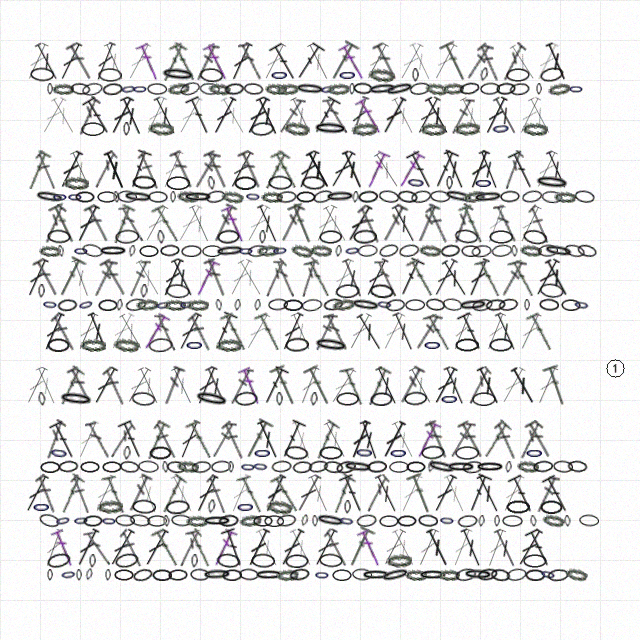chain: (193, 389, 230, 409), (313, 336, 349, 354), (58, 390, 94, 408), (160, 66, 196, 83), (534, 174, 570, 191), (384, 80, 415, 98), (426, 458, 457, 476), (380, 566, 411, 584), (443, 188, 474, 205), (315, 512, 346, 529), (313, 121, 348, 136), (34, 189, 65, 205), (543, 243, 574, 259), (350, 297, 381, 313), (539, 65, 565, 84), (46, 551, 72, 570), (114, 551, 140, 570), (522, 228, 548, 246), (283, 120, 310, 137), (367, 82, 398, 96), (368, 67, 395, 83), (351, 121, 378, 137), (113, 337, 140, 353), (266, 499, 293, 515), (454, 228, 479, 245), (539, 282, 564, 299), (216, 552, 241, 569), (295, 82, 325, 96), (123, 190, 153, 204), (473, 190, 503, 204), (215, 244, 245, 258), (458, 298, 488, 312), (343, 460, 373, 474), (462, 188, 486, 205), (199, 67, 224, 83), (250, 121, 275, 137), (301, 175, 326, 191), (165, 283, 190, 299), (335, 283, 360, 299), (369, 283, 394, 299), (148, 337, 173, 353), (131, 391, 156, 407), (284, 445, 309, 461), (165, 499, 190, 515), (81, 242, 104, 259), (38, 512, 61, 529), (148, 121, 174, 136), (454, 121, 480, 136), (325, 190, 355, 203), (97, 499, 123, 514), (386, 553, 412, 568), (202, 568, 232, 581), (463, 568, 493, 581), (547, 81, 571, 97), (290, 243, 314, 259), (179, 80, 201, 97), (312, 188, 334, 205), (378, 242, 400, 259), (81, 81, 104, 97), (563, 243, 586, 259), (471, 297, 494, 313), (420, 122, 446, 136), (522, 122, 548, 136), (63, 176, 89, 190), (80, 338, 106, 352), (216, 338, 242, 352), (30, 67, 54, 82), (132, 175, 156, 190), (268, 175, 292, 190), (183, 191, 213, 203), (47, 229, 71, 244), (115, 229, 139, 244), (353, 229, 377, 244), (98, 245, 128, 257), (285, 337, 309, 352), (234, 391, 258, 406), (421, 445, 445, 460), (446, 461, 476, 473), (475, 461, 505, 473), (132, 499, 156, 514), (202, 515, 232, 527), (251, 553, 275, 568), (319, 553, 343, 568), (254, 569, 284, 581), (361, 569, 391, 581), (418, 569, 448, 581), (576, 243, 598, 259), (335, 459, 357, 475), (132, 567, 154, 583), (167, 81, 190, 96), (217, 229, 240, 244), (332, 297, 355, 312), (404, 391, 427, 406), (239, 513, 262, 528), (542, 513, 565, 528), (565, 567, 588, 582), (98, 68, 122, 82), (506, 68, 530, 82), (81, 122, 105, 136), (166, 176, 190, 190), (489, 230, 513, 244), (455, 338, 479, 352), (489, 338, 513, 352), (472, 392, 496, 406), (319, 446, 343, 460), (455, 446, 479, 460), (506, 500, 530, 514), (285, 554, 309, 568), (523, 554, 547, 568), (409, 81, 431, 96), (378, 189, 400, 204), (410, 189, 432, 204), (521, 189, 543, 204), (398, 243, 420, 258), (491, 243, 513, 258), (125, 297, 147, 312), (129, 513, 151, 528), (455, 567, 477, 582), (208, 82, 231, 96), (276, 82, 299, 96), (327, 82, 350, 96), (425, 82, 448, 96), (234, 176, 257, 190), (221, 190, 244, 204), (319, 230, 342, 244), (47, 338, 70, 352), (336, 392, 359, 406), (370, 392, 393, 406), (149, 446, 172, 460), (540, 500, 563, 514), (276, 568, 299, 582), (49, 445, 69, 461), (459, 81, 480, 96), (205, 189, 226, 204), (397, 189, 418, 204), (574, 189, 595, 204), (440, 243, 461, 258), (323, 297, 344, 312), (425, 297, 446, 312), (442, 297, 463, 312), (498, 297, 519, 312), (308, 459, 329, 474), (276, 513, 297, 528), (356, 513, 377, 528), (289, 567, 310, 582), (477, 567, 498, 582), (506, 567, 527, 582), (541, 190, 563, 204), (301, 298, 323, 312), (462, 460, 484, 474), (547, 568, 569, 582), (491, 121, 511, 136), (406, 175, 426, 190), (70, 82, 91, 96), (102, 82, 123, 96), (199, 82, 220, 96), (224, 82, 245, 96), (243, 82, 264, 96), (509, 82, 530, 96), (276, 190, 297, 204), (247, 244, 268, 258), (471, 244, 492, 258), (57, 298, 78, 312), (385, 298, 406, 312), (485, 298, 506, 312), (119, 460, 140, 474), (166, 460, 187, 474), (191, 460, 212, 474), (292, 460, 313, 474), (323, 460, 344, 474), (457, 514, 478, 528), (490, 568, 511, 582), (442, 82, 464, 95), (177, 190, 199, 203), (257, 244, 279, 257), (310, 244, 332, 257), (419, 244, 441, 257), (520, 244, 542, 257), (136, 298, 158, 311), (177, 460, 199, 473), (517, 460, 539, 473), (355, 445, 374, 460), (357, 244, 378, 257), (58, 460, 79, 473), (138, 460, 159, 473), (271, 460, 292, 473), (567, 460, 588, 473), (171, 514, 192, 527), (218, 514, 239, 527), (77, 297, 95, 312), (54, 513, 72, 528), (539, 567, 557, 582), (270, 68, 289, 82), (338, 68, 357, 82), (474, 176, 493, 190), (185, 338, 204, 352), (423, 338, 442, 352), (440, 392, 459, 406), (253, 446, 272, 460), (389, 446, 408, 460), (525, 446, 544, 460), (32, 500, 51, 514), (236, 500, 255, 514), (52, 83, 74, 95), (265, 83, 287, 95), (261, 191, 283, 203), (554, 191, 576, 203), (39, 245, 61, 257), (164, 299, 186, 311), (187, 299, 209, 311), (186, 515, 208, 527), (405, 569, 427, 581), (438, 569, 460, 581), (353, 82, 373, 95), (480, 82, 500, 95), (496, 82, 516, 95), (117, 190, 137, 203), (358, 190, 378, 203), (430, 190, 450, 203), (500, 190, 520, 203), (160, 244, 180, 257), (538, 244, 558, 257), (268, 298, 288, 311), (539, 298, 559, 311), (211, 460, 231, 473), (367, 460, 387, 473), (533, 460, 553, 473), (553, 460, 573, 473), (115, 514, 135, 527), (418, 514, 438, 527), (579, 514, 599, 527), (190, 568, 210, 581), (239, 568, 259, 581), (352, 568, 372, 581), (319, 82, 337, 96), (181, 245, 202, 257), (202, 245, 223, 257), (502, 515, 523, 527), (147, 83, 167, 95), (75, 191, 95, 203), (97, 191, 117, 203), (148, 191, 168, 203), (296, 191, 316, 203), (139, 245, 159, 257), (461, 245, 481, 257), (98, 299, 118, 311), (283, 299, 303, 311), (405, 299, 425, 311), (561, 299, 581, 311), (40, 461, 60, 473), (80, 461, 100, 473), (102, 461, 122, 473), (389, 461, 409, 473), (406, 461, 426, 473), (83, 515, 103, 527), (147, 515, 167, 527), (253, 515, 273, 527), (264, 515, 284, 527), (379, 515, 399, 527), (397, 515, 417, 527), (114, 569, 134, 581), (152, 569, 172, 581), (168, 569, 188, 581), (222, 569, 242, 581), (332, 569, 352, 581), (525, 569, 545, 581), (120, 82, 137, 96), (155, 298, 172, 312), (573, 298, 590, 312), (338, 514, 355, 528), (344, 244, 361, 257), (376, 298, 393, 311), (252, 460, 269, 473), (60, 568, 77, 581), (245, 190, 261, 203), (272, 244, 288, 257), (42, 298, 58, 311), (179, 298, 195, 311), (73, 514, 89, 527), (439, 514, 455, 527), (132, 83, 148, 95), (568, 83, 584, 95), (52, 191, 68, 203), (67, 191, 83, 203), (73, 245, 89, 257), (238, 245, 254, 257), (240, 461, 256, 473), (101, 515, 117, 527), (314, 569, 330, 581), (479, 67, 489, 82), (207, 499, 216, 514), (207, 176, 216, 190), (300, 514, 309, 527), (157, 230, 165, 244), (140, 284, 148, 298), (38, 392, 46, 406), (310, 392, 318, 406), (123, 446, 131, 460), (427, 460, 435, 473), (85, 568, 93, 581), (412, 68, 419, 82), (123, 122, 130, 136), (446, 176, 453, 190), (259, 230, 266, 244), (38, 284, 45, 298), (276, 392, 283, 406), (344, 500, 351, 514), (89, 554, 96, 568), (191, 554, 198, 568), (57, 245, 65, 257), (128, 245, 136, 257), (215, 299, 223, 311), (113, 191, 120, 203), (352, 191, 359, 203), (335, 245, 342, 257), (511, 245, 518, 257), (116, 299, 123, 311), (234, 299, 241, 311), (254, 299, 261, 311), (162, 461, 169, 473), (505, 461, 512, 473), (163, 515, 170, 527), (478, 515, 485, 527), (530, 515, 537, 527), (564, 515, 571, 527), (47, 83, 53, 95), (349, 83, 355, 95), (536, 83, 542, 95), (170, 191, 176, 203), (524, 299, 530, 311), (228, 461, 234, 473), (312, 515, 318, 527), (494, 515, 500, 527), (47, 569, 53, 581), (76, 569, 82, 581), (105, 569, 111, 581)
double: (326, 40, 360, 83), (292, 41, 326, 83), (81, 95, 115, 137), (54, 256, 87, 299), (241, 418, 274, 461), (479, 419, 513, 460), (268, 41, 301, 83), (309, 95, 342, 137), (439, 40, 471, 83), (48, 202, 80, 245), (269, 364, 301, 407), (303, 364, 335, 407), (344, 526, 376, 569), (259, 149, 291, 191), (405, 149, 437, 191), (150, 203, 182, 245), (422, 311, 454, 353), (48, 419, 80, 461), (269, 473, 301, 515), (541, 473, 573, 515), (184, 94, 215, 137), (395, 256, 426, 299), (456, 310, 487, 353), (157, 41, 188, 83), (269, 149, 300, 191), (507, 149, 538, 191), (303, 257, 334, 299), (405, 257, 436, 299), (507, 257, 538, 299), (55, 365, 86, 407), (259, 365, 290, 407), (184, 419, 215, 461), (157, 473, 188, 515), (507, 473, 538, 515), (150, 527, 181, 569), (524, 527, 555, 569), (430, 148, 460, 191), (287, 202, 317, 245), (209, 310, 239, 353), (117, 418, 147, 461), (277, 418, 307, 461), (338, 472, 368, 515), (406, 472, 436, 515), (507, 42, 539, 82), (371, 150, 403, 190), (439, 258, 471, 298), (327, 366, 359, 406), (65, 41, 96, 82), (337, 41, 368, 82), (38, 95, 69, 136), (48, 95, 79, 136), (218, 95, 249, 136), (354, 95, 385, 136), (422, 95, 453, 136), (490, 95, 521, 136), (303, 149, 334, 190), (327, 149, 358, 190), (395, 149, 426, 190), (174, 203, 205, 244), (320, 203, 351, 244), (344, 203, 375, 244), (99, 257, 130, 298), (133, 257, 164, 298), (235, 257, 266, 298), (116, 311, 147, 352), (140, 311, 171, 352), (242, 311, 273, 352), (123, 365, 154, 406), (524, 419, 555, 460), (293, 473, 324, 514), (106, 527, 137, 568), (514, 527, 545, 568), (168, 41, 198, 83), (532, 41, 562, 83), (22, 149, 52, 191), (474, 257, 504, 299), (219, 311, 249, 353), (253, 311, 283, 353), (525, 311, 555, 353), (362, 365, 392, 407), (141, 419, 171, 461), (311, 419, 341, 461), (56, 473, 86, 515), (236, 473, 266, 515), (542, 364, 571, 407), (464, 472, 493, 515), (354, 312, 385, 352), (32, 41, 62, 82), (124, 41, 154, 82), (362, 41, 392, 82), (396, 41, 426, 82), (430, 41, 460, 82), (175, 95, 205, 136), (209, 95, 239, 136), (379, 95, 409, 136), (413, 95, 443, 136), (525, 95, 555, 136), (226, 149, 256, 190), (83, 203, 113, 244), (141, 203, 171, 244), (243, 203, 273, 244), (379, 203, 409, 244), (389, 203, 419, 244), (32, 257, 62, 298), (430, 257, 460, 298), (532, 257, 562, 298), (542, 257, 572, 298), (107, 311, 137, 352), (345, 311, 375, 352), (66, 365, 96, 406), (90, 365, 120, 406), (396, 365, 426, 406), (406, 365, 436, 406), (430, 365, 460, 406), (498, 365, 528, 406), (508, 365, 538, 406), (457, 419, 487, 460), (141, 527, 171, 568), (277, 527, 307, 568), (379, 527, 409, 568), (389, 527, 419, 568), (117, 95, 146, 137), (253, 95, 282, 137), (107, 203, 136, 245), (457, 203, 486, 245), (515, 203, 544, 245), (202, 365, 231, 407), (328, 473, 357, 515), (185, 527, 214, 569), (491, 527, 520, 569), (125, 148, 153, 191), (220, 526, 248, 569), (56, 41, 85, 82), (202, 41, 231, 82), (260, 41, 289, 82), (304, 41, 333, 82), (372, 41, 401, 82), (107, 95, 136, 136), (151, 95, 180, 136), (243, 95, 272, 136), (287, 95, 316, 136), (389, 95, 418, 136), (457, 95, 486, 136), (481, 95, 510, 136), (515, 95, 544, 136), (56, 149, 85, 190), (532, 149, 561, 190), (73, 203, 102, 244), (277, 203, 306, 244), (168, 257, 197, 298), (192, 257, 221, 298), (226, 257, 255, 298), (362, 257, 391, 298), (175, 311, 204, 352), (379, 311, 408, 352), (22, 365, 51, 406), (168, 365, 197, 406), (474, 365, 503, 406), (321, 419, 350, 460), (379, 419, 408, 460), (389, 419, 418, 460), (413, 419, 442, 460), (22, 473, 51, 514), (168, 473, 197, 514), (192, 473, 221, 514), (372, 473, 401, 514), (430, 473, 459, 514), (474, 473, 503, 514), (73, 527, 102, 568), (253, 527, 282, 568), (287, 527, 316, 568), (311, 527, 340, 568), (423, 527, 452, 568), (101, 149, 129, 191), (339, 257, 367, 299), (339, 365, 367, 407), (101, 473, 129, 515), (464, 42, 494, 81), (413, 312, 443, 351), (498, 42, 527, 82), (192, 150, 221, 190), (49, 312, 78, 352), (515, 420, 544, 460), (23, 41, 51, 82), (227, 41, 255, 82), (407, 41, 435, 82), (142, 95, 170, 136), (67, 149, 95, 190), (169, 149, 197, 190), (203, 149, 231, 190), (237, 149, 265, 190), (363, 149, 391, 190), (543, 149, 571, 190), (186, 203, 214, 244), (210, 203, 238, 244), (220, 203, 248, 244), (254, 203, 282, 244), (312, 203, 340, 244), (23, 257, 51, 298), (329, 257, 357, 298), (278, 311, 306, 352), (492, 311, 520, 352), (516, 311, 544, 352), (135, 365, 163, 406), (373, 365, 401, 406), (533, 365, 561, 406), (74, 419, 102, 460), (254, 419, 282, 460), (424, 419, 452, 460), (91, 473, 119, 514), (125, 473, 153, 514), (261, 473, 289, 514), (305, 473, 333, 514), (397, 473, 425, 514), (441, 473, 469, 514), (499, 473, 527, 514), (210, 527, 238, 568), (244, 527, 272, 568), (356, 527, 384, 568), (414, 527, 442, 568), (107, 421, 137, 459), (83, 529, 113, 567), (277, 96, 306, 135), (499, 258, 527, 298), (186, 312, 214, 352), (101, 41, 128, 82), (135, 41, 162, 82), (543, 41, 570, 82), (159, 149, 186, 190), (295, 149, 322, 190), (339, 149, 366, 190), (441, 149, 468, 190), (414, 203, 441, 244), (159, 257, 186, 298), (203, 257, 230, 298), (465, 257, 492, 298), (40, 311, 67, 352), (74, 311, 101, 352), (288, 311, 315, 352), (390, 311, 417, 352), (482, 311, 509, 352), (33, 365, 60, 406), (193, 365, 220, 406), (237, 365, 264, 406), (441, 365, 468, 406), (176, 419, 203, 460), (227, 473, 254, 514), (50, 527, 77, 568), (458, 527, 485, 568), (322, 96, 350, 135), (91, 150, 119, 189), (118, 204, 146, 243), (483, 203, 509, 245), (68, 257, 94, 299), (160, 365, 186, 407), (465, 366, 493, 405), (289, 419, 315, 461), (448, 420, 476, 459), (363, 474, 391, 513), (322, 528, 350, 567), (483, 527, 509, 569), (193, 42, 220, 82), (74, 96, 101, 136), (40, 204, 67, 244), (356, 204, 383, 244), (424, 204, 451, 244), (91, 258, 118, 298), (101, 366, 128, 406), (220, 420, 247, 460), (118, 528, 145, 568), (176, 528, 203, 568), (92, 41, 118, 82), (466, 149, 492, 190), (476, 149, 502, 190), (85, 311, 111, 352), (449, 311, 475, 352), (296, 365, 322, 406), (41, 419, 67, 460), (347, 419, 373, 460), (449, 527, 475, 568), (152, 420, 179, 459), (210, 420, 237, 459), (347, 95, 372, 137), (357, 419, 382, 461), (136, 473, 161, 515), (41, 527, 66, 569), (476, 42, 502, 82), (449, 96, 475, 136), (136, 150, 162, 190), (262, 258, 288, 298), (323, 312, 349, 352), (228, 366, 254, 406), (85, 420, 111, 460), (493, 420, 519, 460), (534, 474, 560, 514), (238, 41, 263, 82), (449, 203, 474, 244), (493, 203, 518, 244), (34, 473, 59, 514), (34, 150, 59, 190), (527, 204, 552, 244), (374, 258, 399, 298), (313, 312, 338, 352), (501, 150, 525, 190), (127, 258, 151, 298), (273, 258, 297, 298), (154, 312, 178, 352), (69, 474, 93, 514), (205, 474, 229, 514), (298, 257, 320, 298)
noise: (604, 357, 626, 379)
